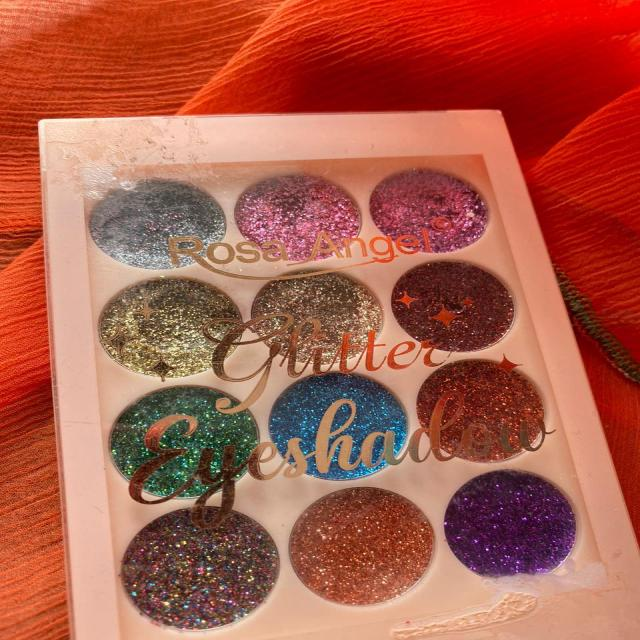highlighter: (130, 504, 284, 621), (290, 488, 432, 609), (110, 390, 260, 492), (278, 370, 412, 482), (445, 473, 585, 579), (419, 359, 550, 466), (382, 260, 526, 353), (220, 174, 360, 269), (102, 279, 238, 376), (370, 164, 497, 260), (95, 179, 217, 270), (244, 285, 376, 361)
